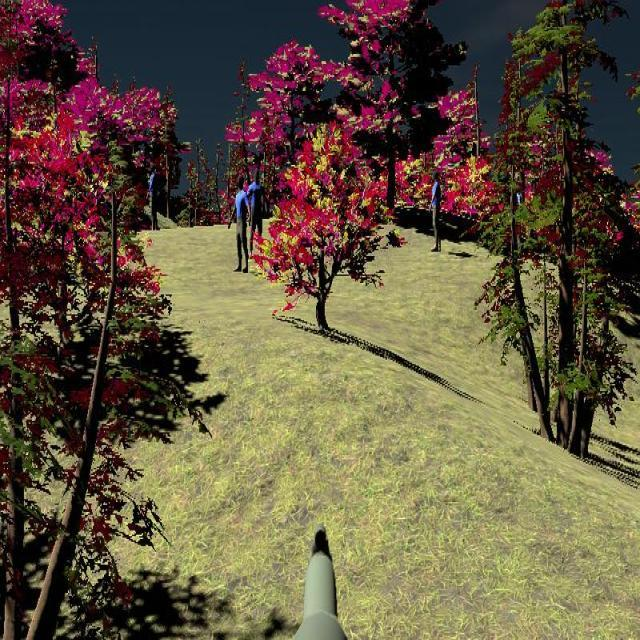Human: (228, 175, 251, 272), (247, 167, 264, 260), (430, 169, 441, 253)
